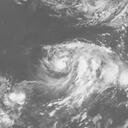cyclone: (41, 45, 75, 81)
